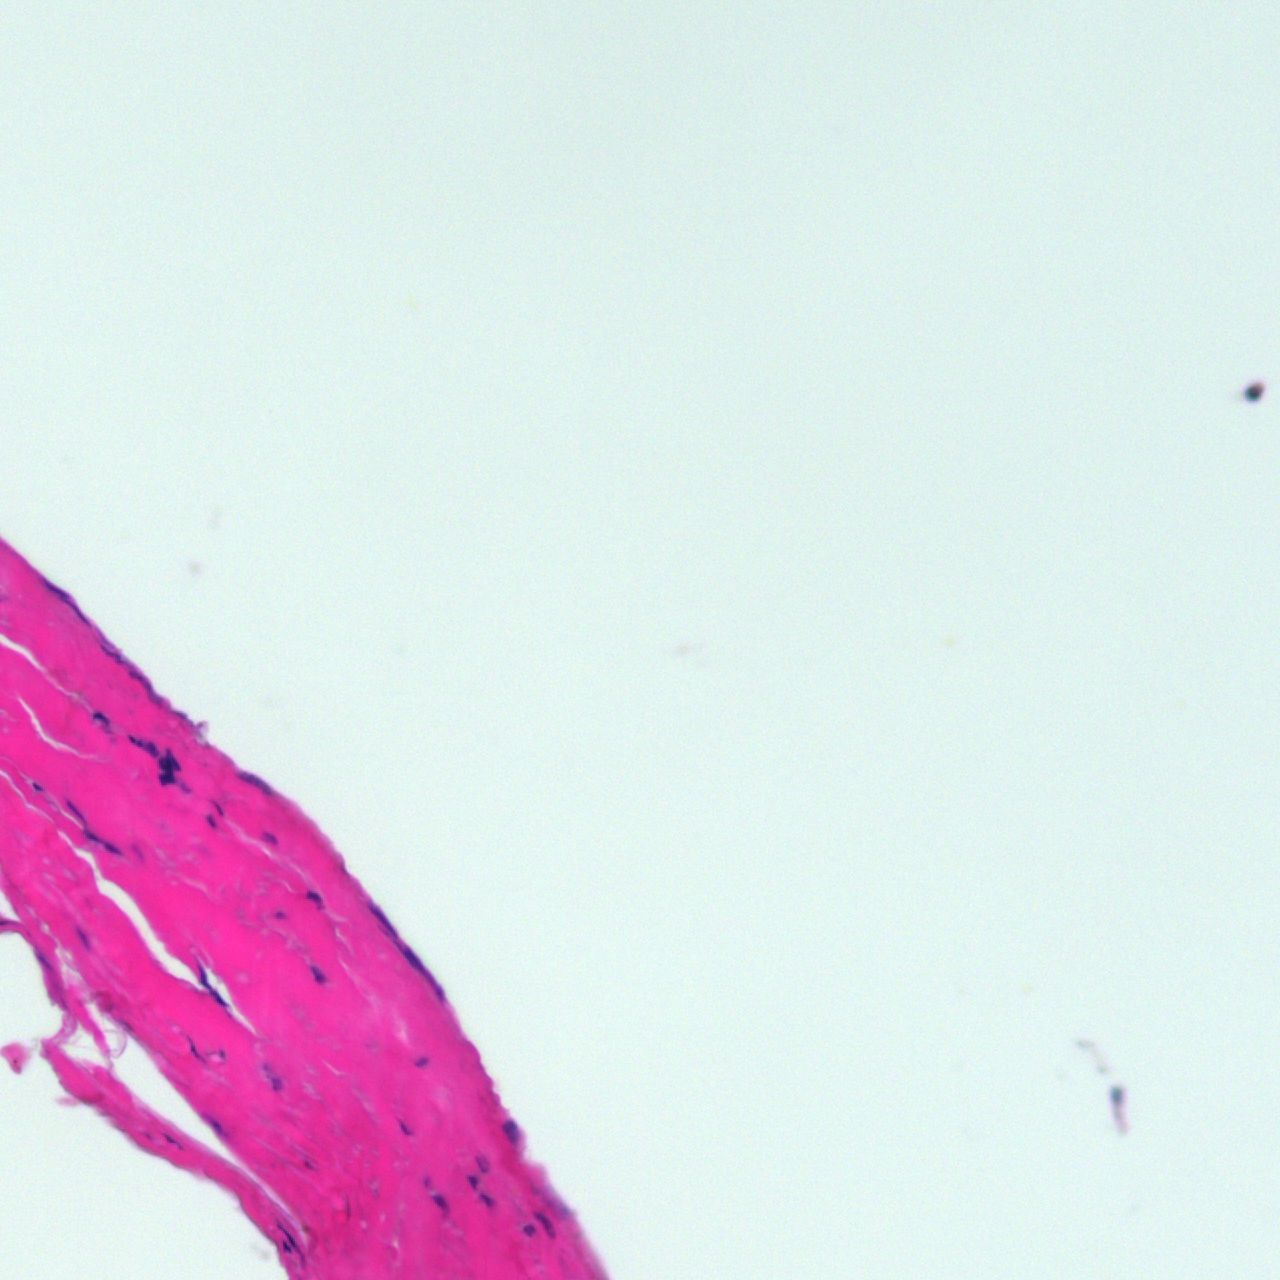nucleus-HE: (396, 941, 449, 1002), (368, 901, 401, 943), (234, 765, 274, 797), (124, 728, 161, 759), (530, 1205, 558, 1239), (157, 747, 181, 786), (61, 796, 90, 827), (39, 575, 72, 602), (276, 1220, 302, 1251), (191, 961, 214, 993), (203, 1110, 229, 1138), (429, 1190, 453, 1220), (90, 625, 116, 651), (100, 643, 126, 667), (471, 1151, 494, 1178), (30, 946, 53, 972), (182, 1035, 204, 1062), (208, 987, 230, 1011), (73, 924, 93, 950), (78, 826, 102, 847), (160, 1131, 185, 1151), (68, 600, 88, 624), (101, 839, 124, 859), (209, 796, 228, 818), (500, 1118, 516, 1144), (145, 682, 162, 704), (303, 888, 324, 905), (310, 964, 326, 984), (90, 710, 109, 725), (268, 1076, 284, 1093), (396, 1118, 411, 1136), (343, 1193, 352, 1223), (411, 1054, 428, 1068), (260, 830, 276, 844), (280, 1239, 293, 1256), (127, 670, 144, 682), (466, 1175, 480, 1189), (479, 1192, 492, 1206), (205, 812, 216, 828), (170, 709, 187, 719), (523, 1223, 535, 1236), (424, 1172, 432, 1190), (32, 781, 43, 792), (273, 910, 285, 920), (218, 1048, 225, 1059)
